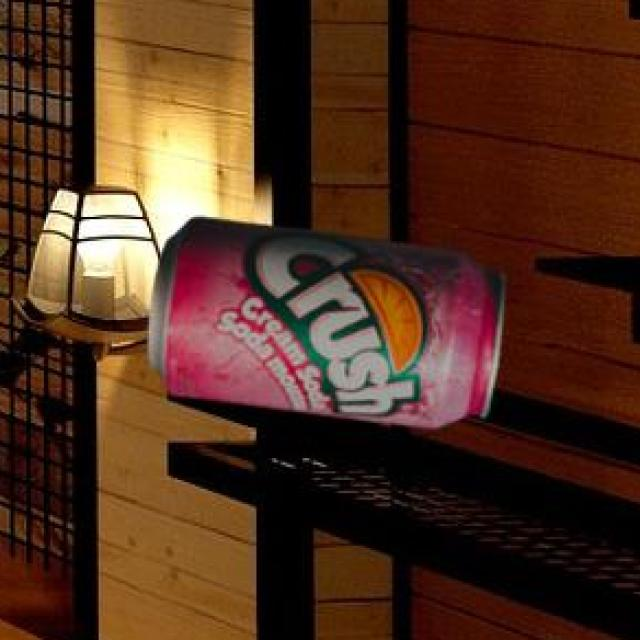logam: (152, 220, 507, 431)
